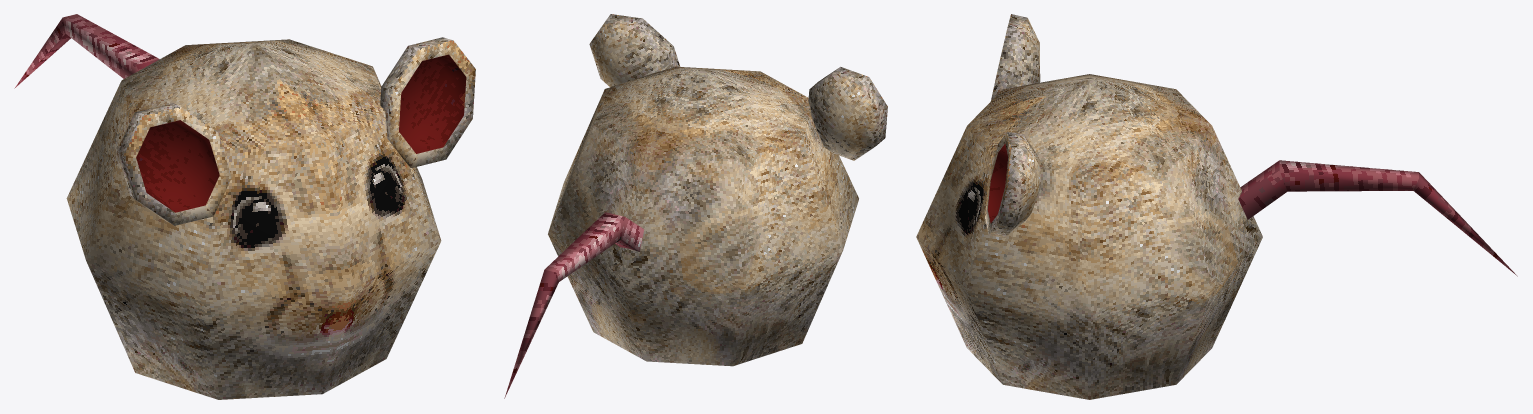
File: MouseBall.glb
The picture shows the model from 3 angles, left to right: view 1: azimuth 30°, elevation 25°; view 2: azimuth 150°, elevation 25°; view 3: azimuth 270°, elevation 25°; orthographic projection. The views are drawn at different scales.
Visible parts, largest first — view 1: MouseBall; view 2: MouseBall; view 3: MouseBall.
Boxes of the visible parts, x1=… form: MouseBall: x1=14, y1=14, x2=475, y2=399; MouseBall: x1=504, y1=14, x2=887, y2=398; MouseBall: x1=916, y1=14, x2=1517, y2=399.
Bounding box in the file's own units: 1.05 × 1 × 1.74.
Materials: 1 (1 with a texture image).
